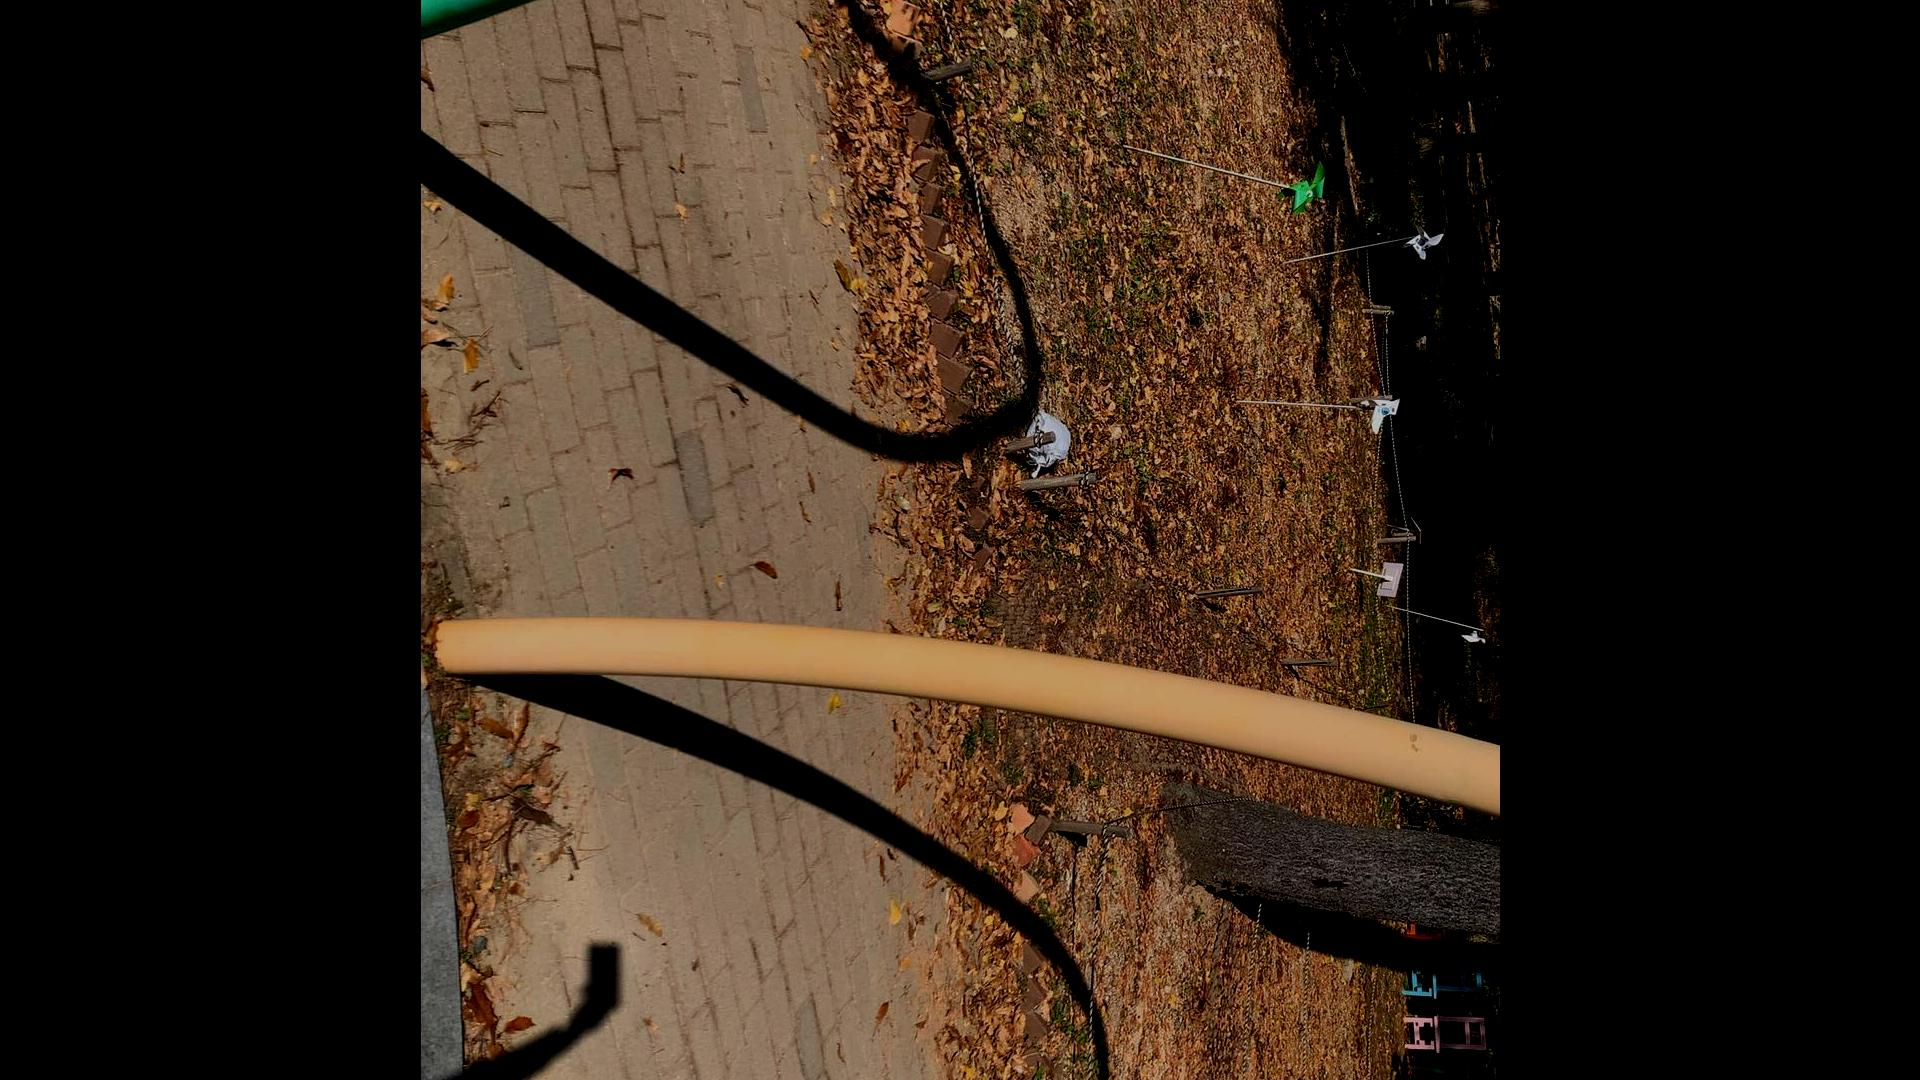white_bag: (1015, 402, 1072, 477)
